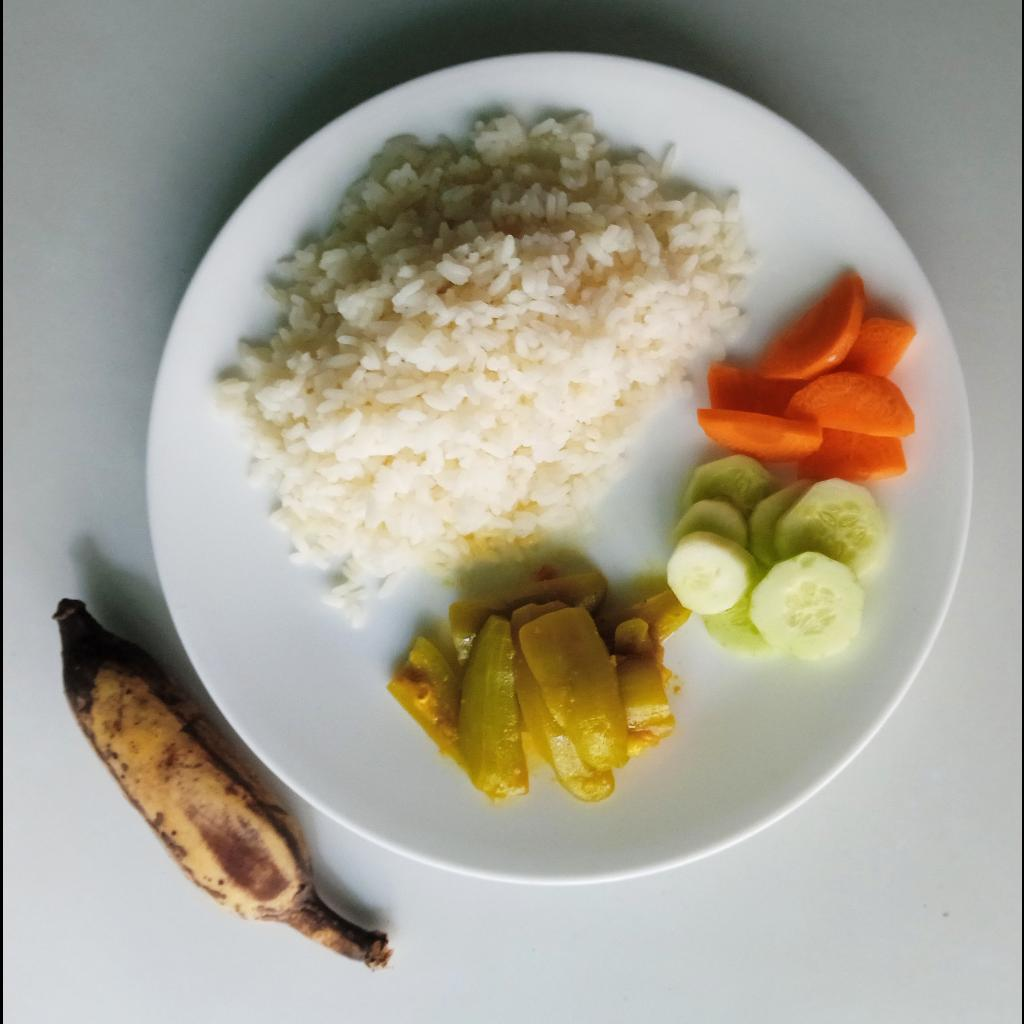banana: (49, 594, 392, 969)
carrot: (697, 265, 916, 485)
cucumber: (666, 451, 877, 657)
potol: (387, 564, 692, 802)
rice: (212, 105, 756, 615)
